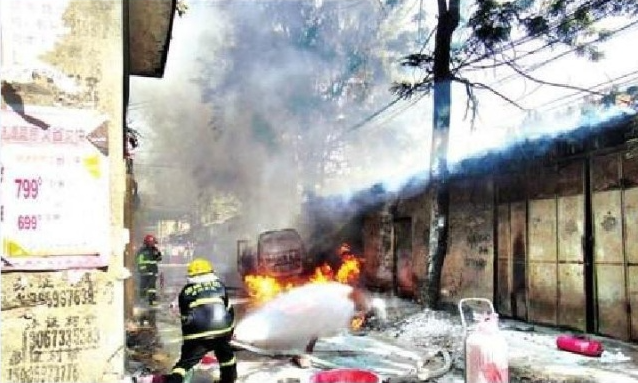喷灌水雾: (231, 281, 356, 355)
